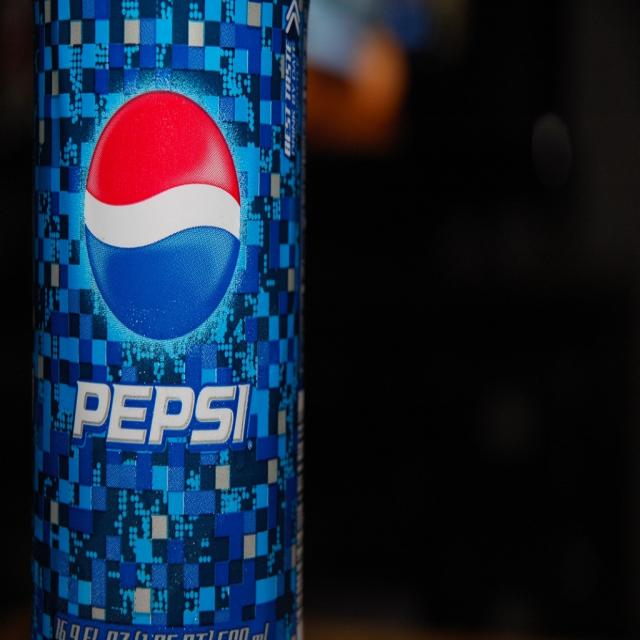pepsi: (78, 87, 247, 344)
